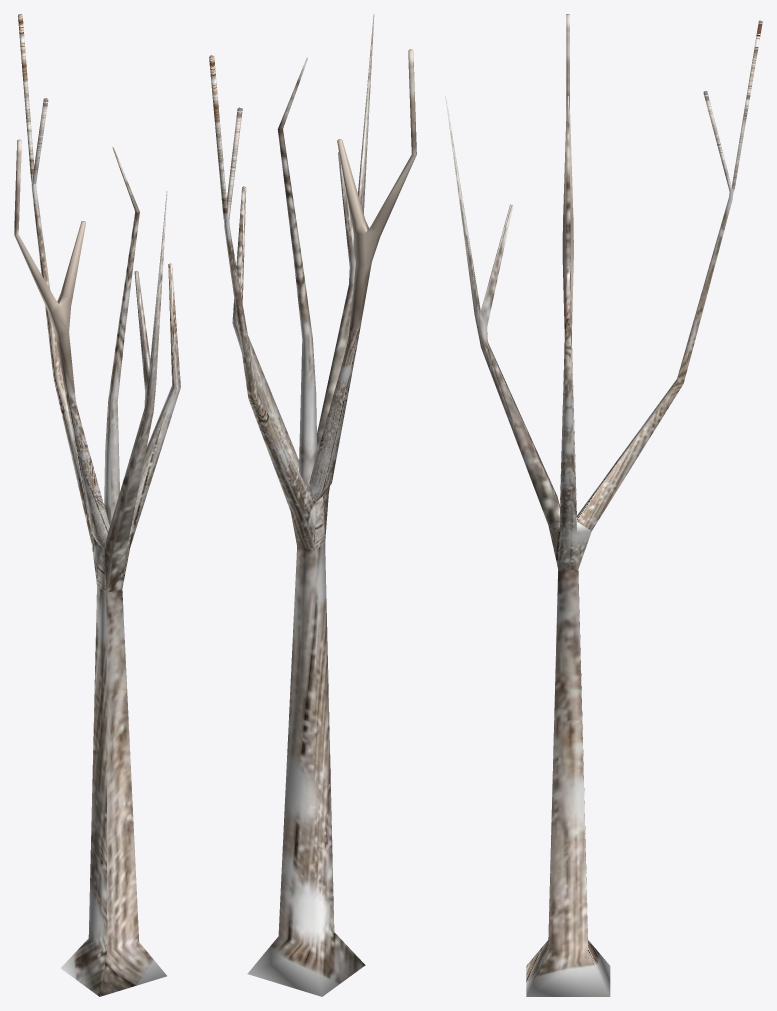
Rendered from TREESNOWWOOD.fbx.
3 views of the same model, side by side, from view 1: azimuth 30°, elevation 25°; view 2: azimuth 150°, elevation 25°; view 3: azimuth 270°, elevation 25° (orthographic). The views are drawn at different scales.
Visible parts, largest first — view 1: Tree 16; view 2: Tree 16; view 3: Tree 16.
Part boxes in pixels (bbox=[...]): Tree 16: bbox=[14, 14, 180, 996]; Tree 16: bbox=[209, 14, 416, 996]; Tree 16: bbox=[445, 14, 762, 996].
Size of the model in its own units: 103 by 538 by 161.
